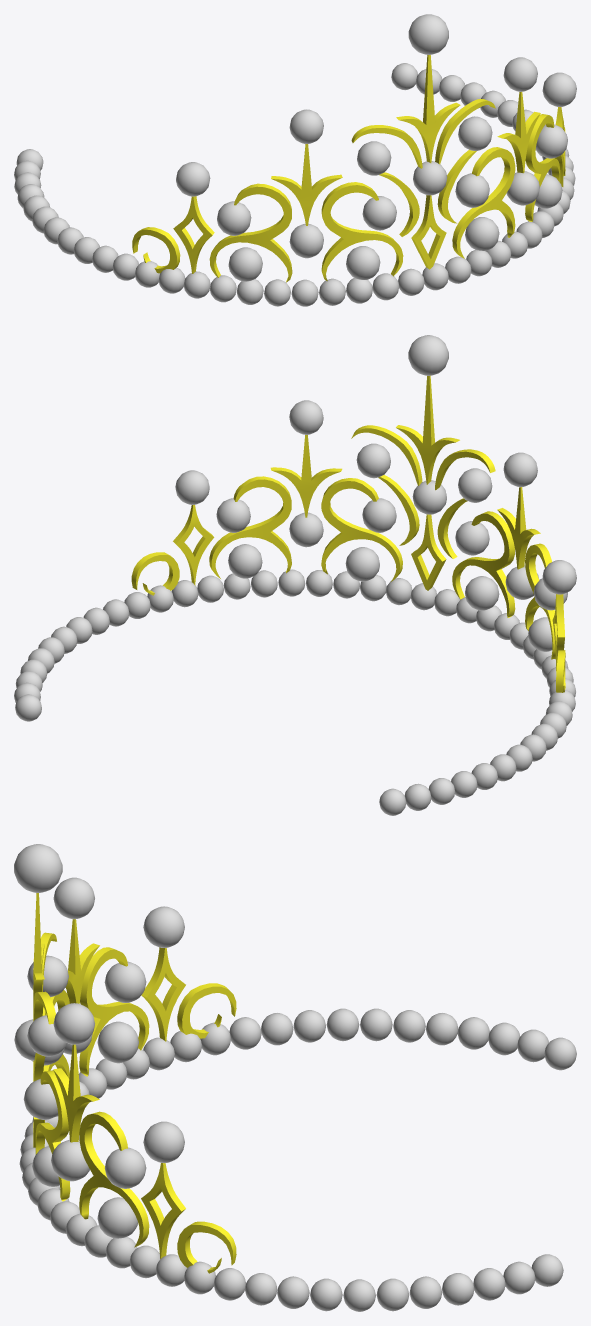
The model's file is Cake_ThemeRoyal_C.FBX.
The picture shows the model from 3 angles, top to bottom: view 1: azimuth 30°, elevation 25°; view 2: azimuth 150°, elevation 25°; view 3: azimuth 270°, elevation 25°; orthographic projection. The views are drawn at different scales.
Visible parts, largest first — view 1: Cake_ThemeRoyal_C; view 2: Cake_ThemeRoyal_C; view 3: Cake_ThemeRoyal_C.
Boxes of the visible parts, x1,y1,x2,y2 form: Cake_ThemeRoyal_C: [14, 14, 576, 306]; Cake_ThemeRoyal_C: [14, 335, 576, 815]; Cake_ThemeRoyal_C: [14, 844, 576, 1311].
Bounding box in the file's own units: 97963 × 52824 × 81911.
